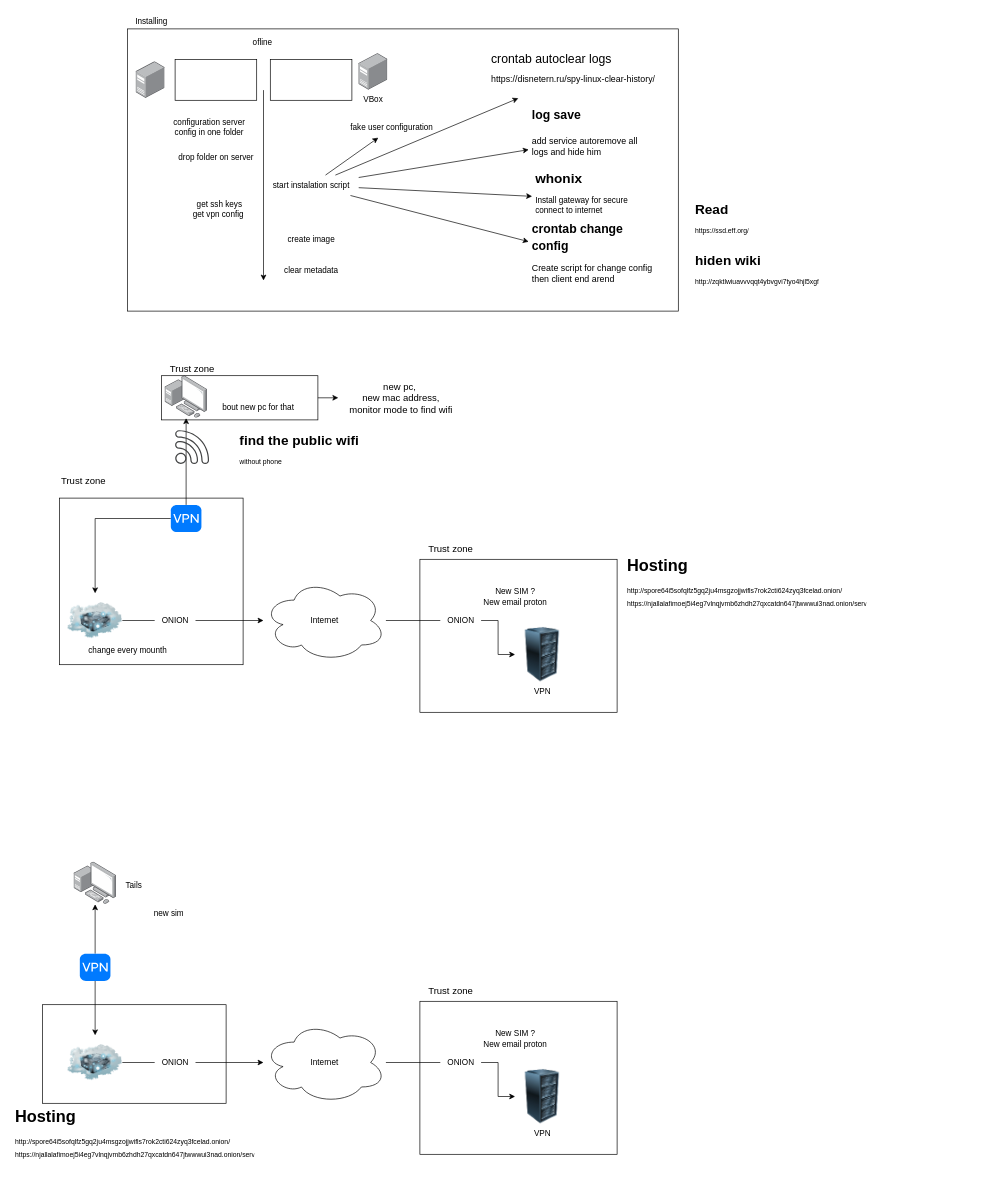
This 1006x1203 diagram has some shape labels left out. Each missing label, with the centre of its shape:
"My PC" goes at (215,79).
"public wifi" goes at (192,447).
"SERVER" goes at (311,79).
